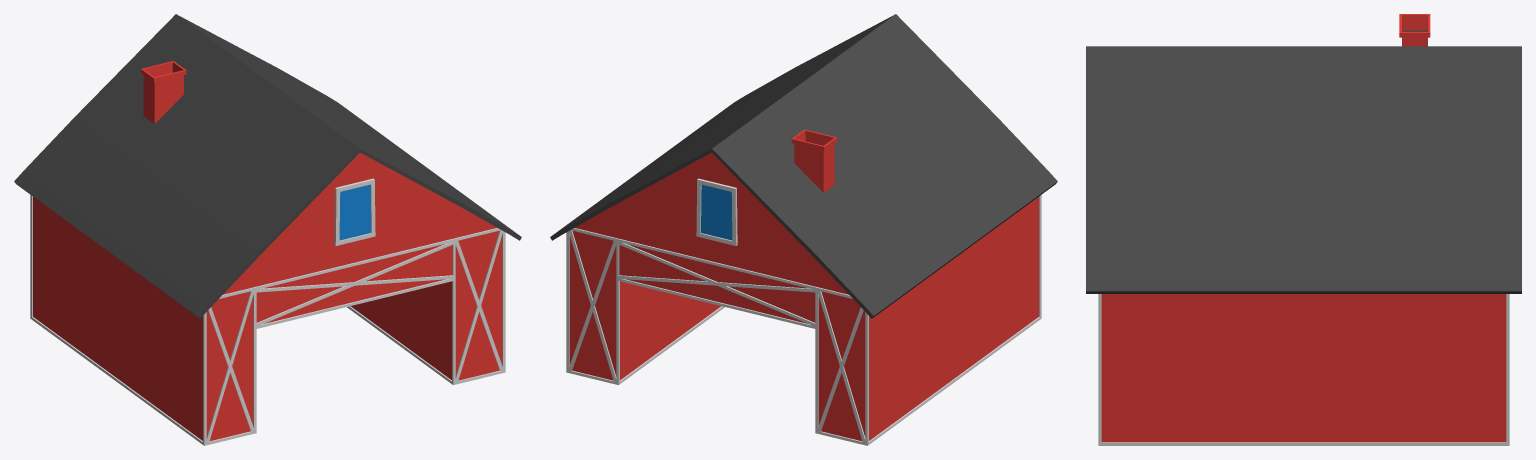
File: Checkpoint.fbx
3 renders of one model, left to right at view 1: azimuth 30°, elevation 25°; view 2: azimuth 150°, elevation 25°; view 3: azimuth 270°, elevation 25°, orthographic. The views are drawn at different scales.
Visible parts, largest first — view 1: Checkpoint; view 2: Checkpoint; view 3: Checkpoint.
Boxes of the visible parts, x1,y1,x2,y2 form: Checkpoint: (14, 14, 521, 445); Checkpoint: (550, 14, 1057, 445); Checkpoint: (1086, 14, 1521, 445).
Size of the model in its own units: 13.01 by 10.14 by 12.81.
